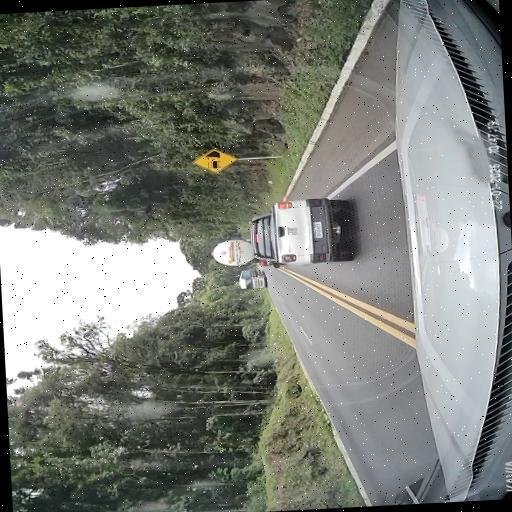A-27: (192, 147, 238, 173)
